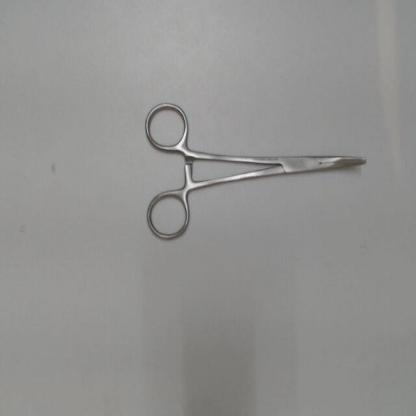Crile Artery Forceps: (143, 93, 374, 241)
